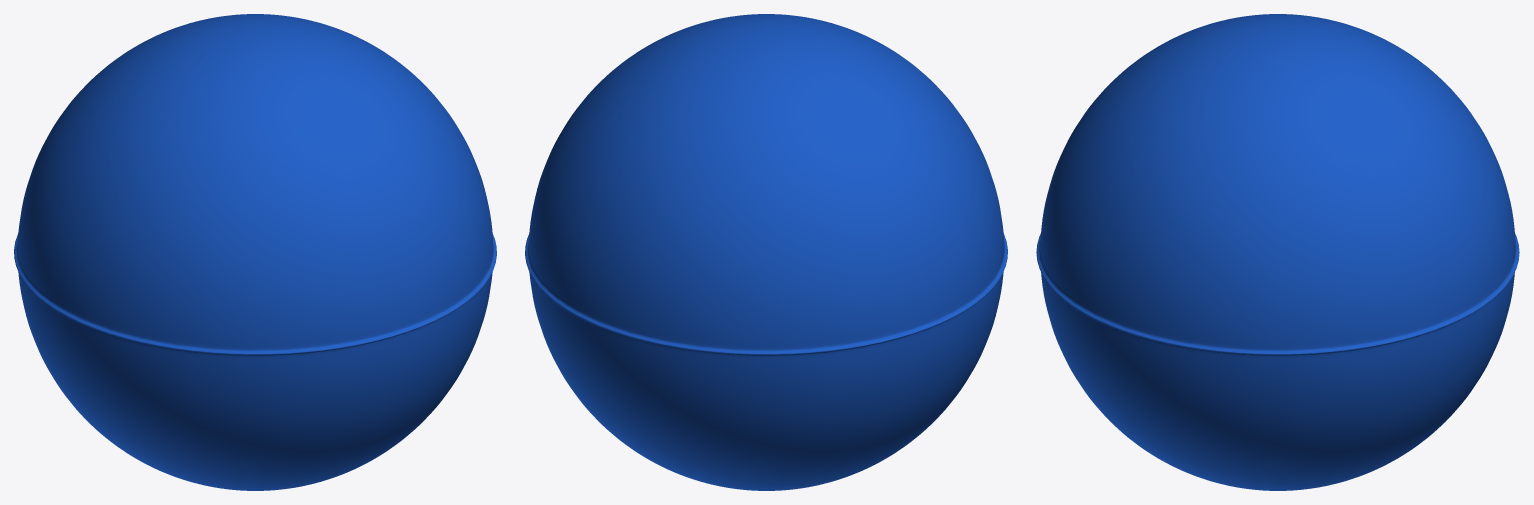
Rendered from ball.glb.
The picture shows the model from 3 angles, left to right: view 1: azimuth 30°, elevation 25°; view 2: azimuth 150°, elevation 25°; view 3: azimuth 270°, elevation 25°; orthographic projection.
Parts seen in each view (by area): view 1: Mesh_0; view 2: Mesh_0; view 3: Mesh_0.
Boxes of the visible parts, bbox=[...] form: Mesh_0: bbox=[14, 14, 496, 490]; Mesh_0: bbox=[525, 14, 1007, 490]; Mesh_0: bbox=[1036, 14, 1519, 490].
Bounding box in the file's own units: 2.02 × 2 × 2.02.
